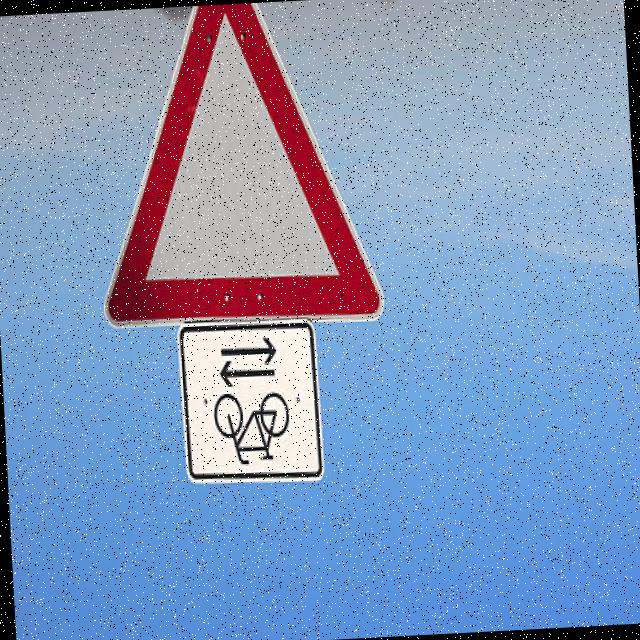give_way: (84, 0, 410, 351)
